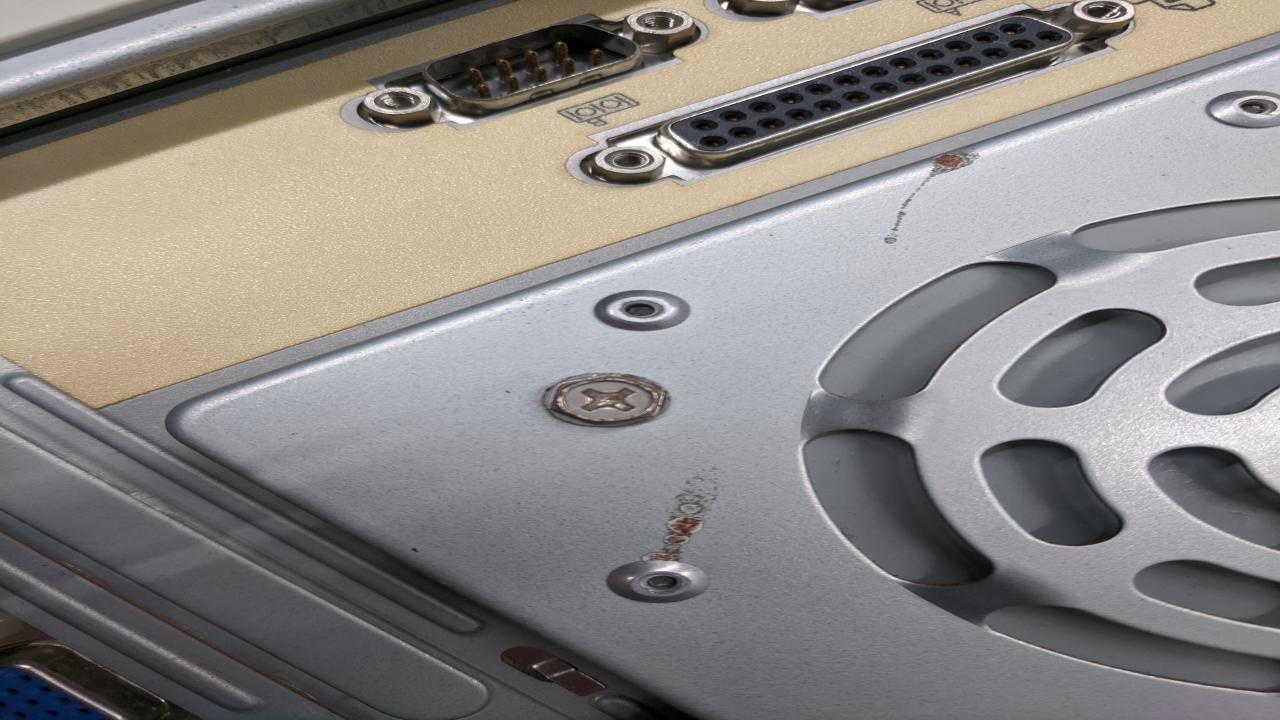CRS: (546, 375, 670, 425)
